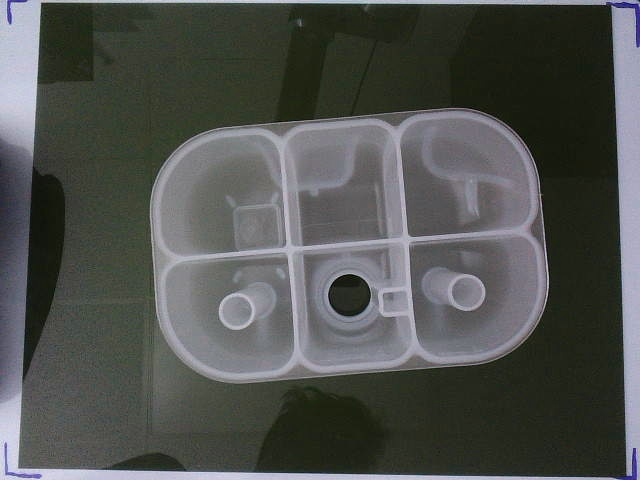reservoir_transparent_Under: (150, 108, 549, 384)
